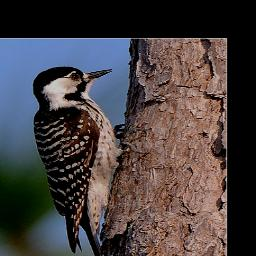Woodpecker: (27, 60, 132, 256)
